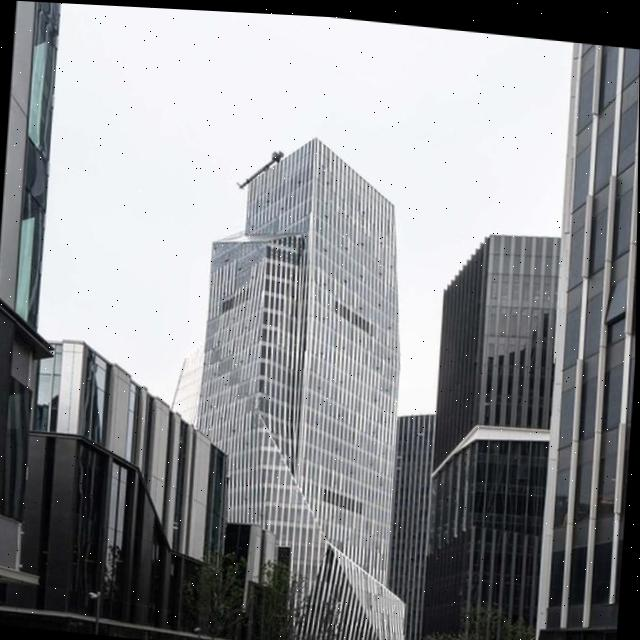building: (181, 125, 441, 640), (16, 333, 236, 640), (529, 40, 640, 640), (417, 221, 564, 640), (0, 0, 58, 614)
